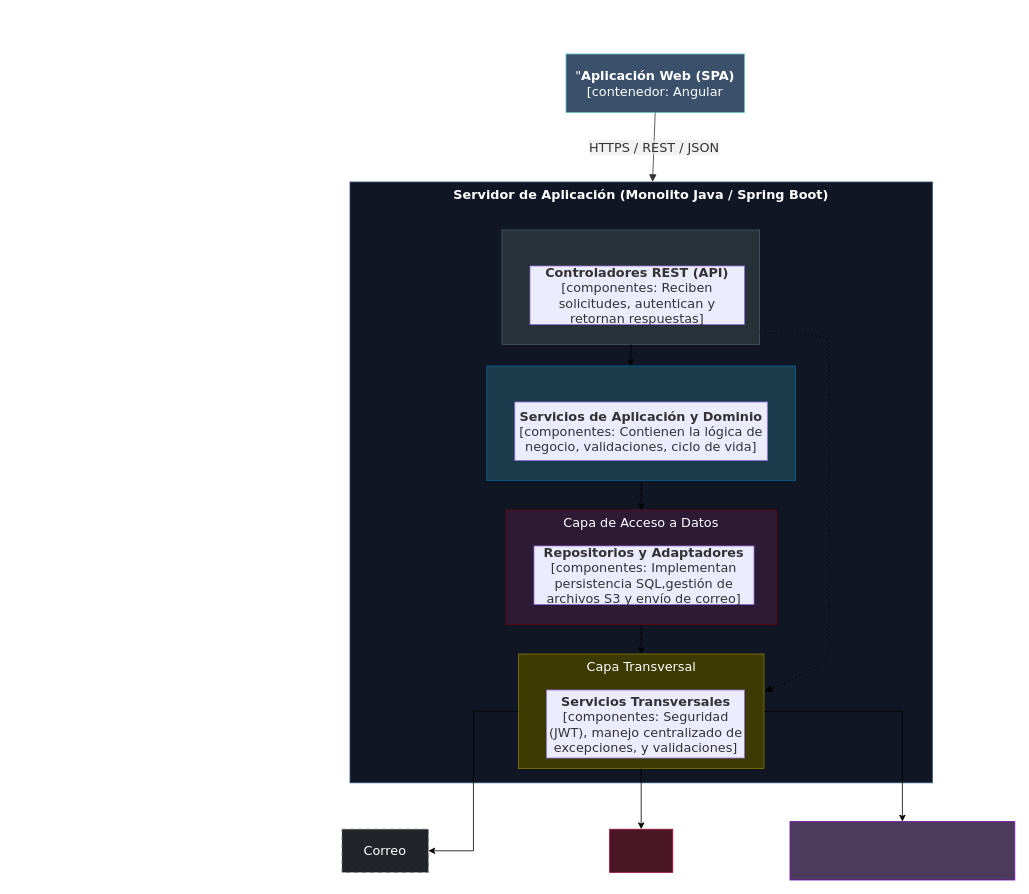
Image size: 1029x894. Some labels were removed from this diagram. The shapes that lost their labels are listed below. From the top down, each one's box as (x1, y1, x2, y2) in pixels, then its label:
(501, 229, 760, 344): Capa de Presentación
(486, 365, 796, 480): Capa de Dominio
(609, 828, 673, 872): BD
(789, 821, 1015, 880): " Almacenamiento de Archivos [contenedor: S3
